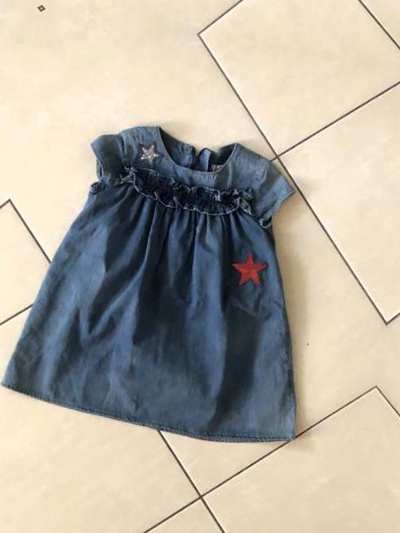Dress: (1, 55, 365, 460), (74, 0, 400, 20), (0, 0, 8, 401)
